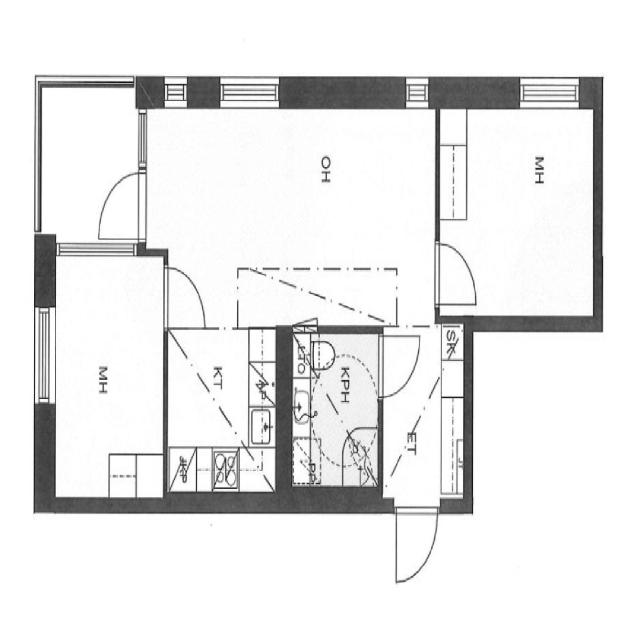door: (391, 502, 442, 585), (95, 162, 144, 246), (161, 254, 208, 338), (433, 232, 480, 310), (375, 328, 422, 400)
window: (32, 294, 58, 420), (215, 70, 287, 109), (514, 72, 586, 109), (52, 233, 140, 260), (398, 72, 433, 110), (132, 100, 151, 168), (159, 73, 190, 109)
zone: (133, 104, 440, 327), (436, 98, 599, 318), (50, 250, 166, 500), (165, 324, 269, 491), (379, 321, 470, 509), (292, 329, 379, 488)
